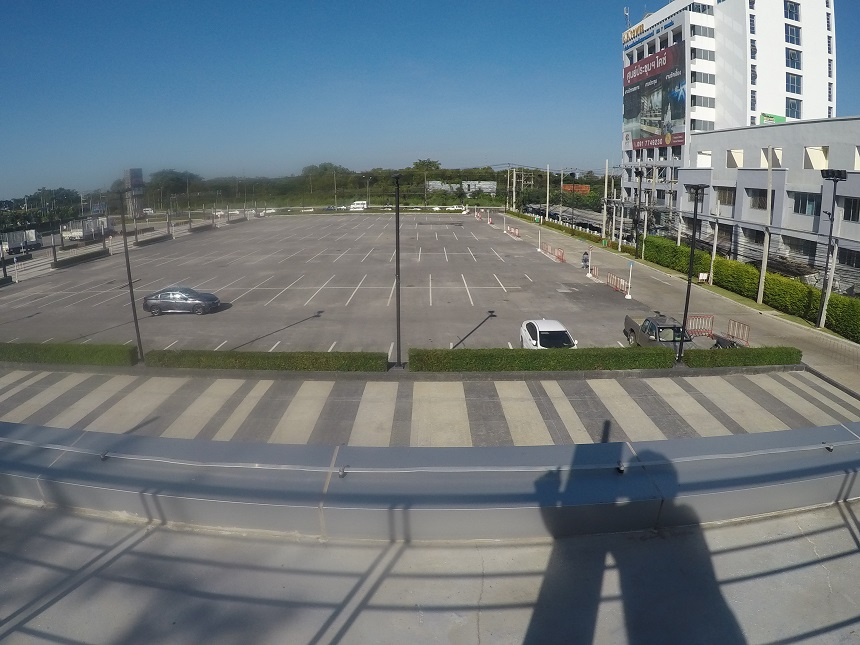busy: (636, 319, 686, 346), (522, 325, 564, 347)
